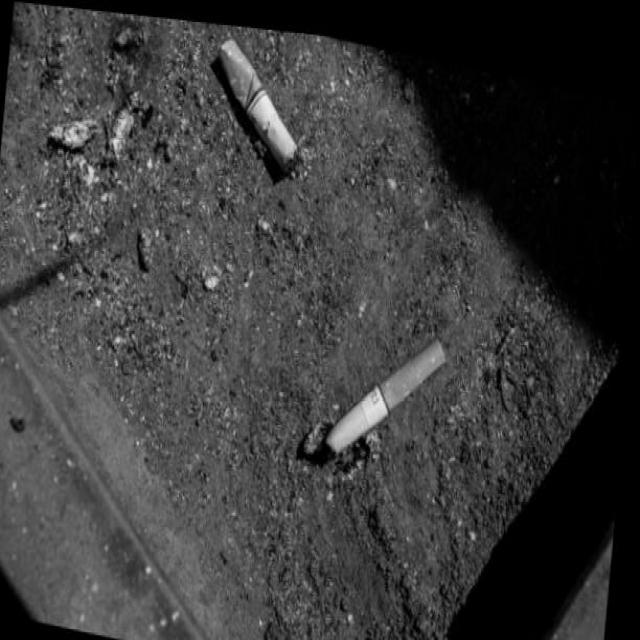cigarette: (324, 304, 453, 478), (208, 24, 312, 169)
